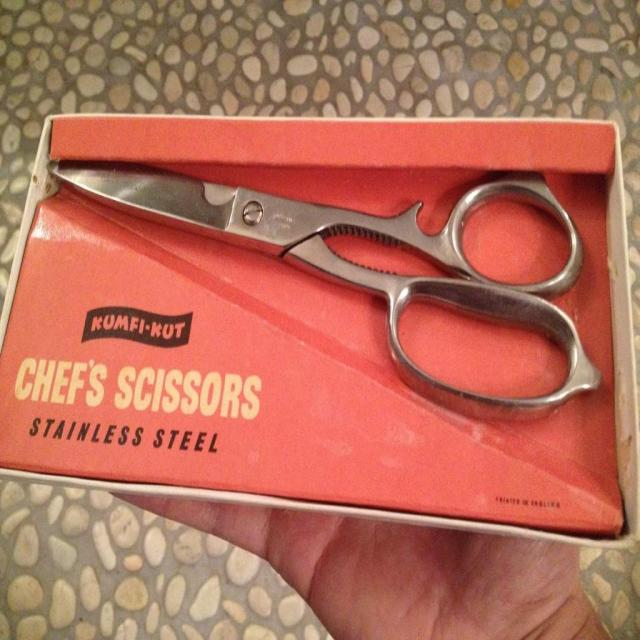scissor: (48, 159, 606, 431)
